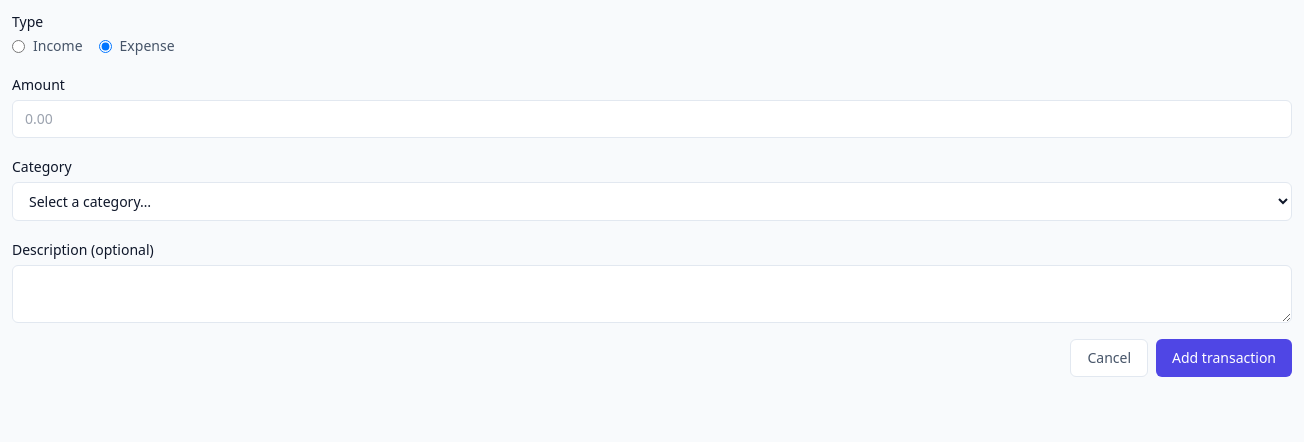
Test: TransactionForm › blocks submit for a non-positive or invalid amount with a field error (Requirement 5.2)
Select "Repairs (Line 14)" in the dropdown labelled "Category" at [652, 202], box [12,182,1292,221]
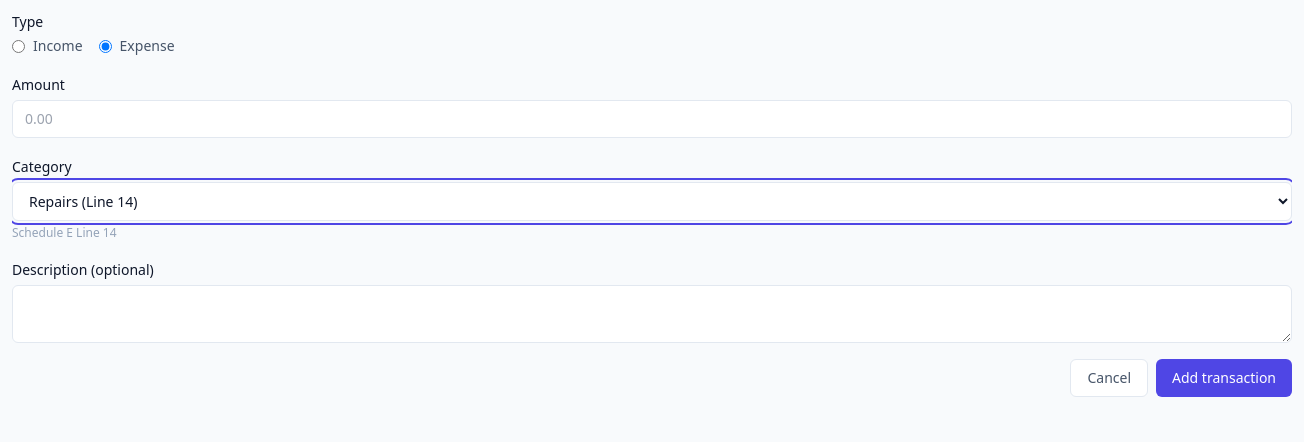
Type "0" into the field labelled "Amount" at [652, 119], box [12,100,1292,138]
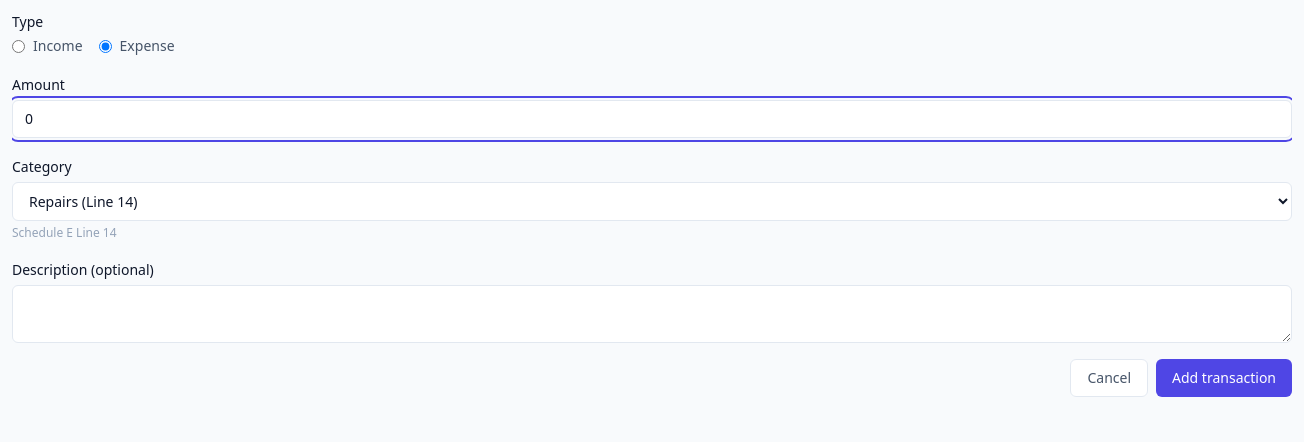
Click the button "Add transaction" at [1224, 378], box [1156,359,1292,397]
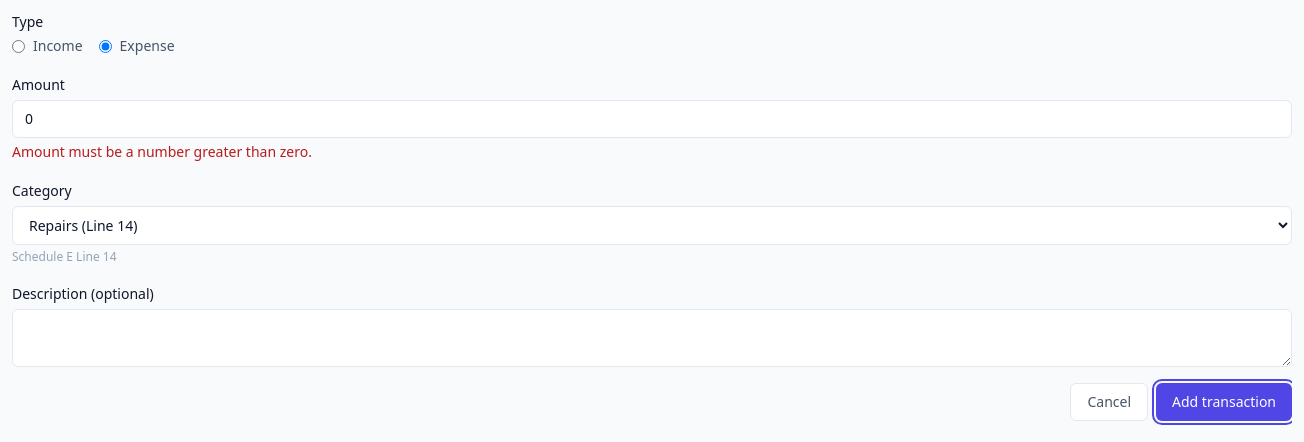
Check: the text "Amount must be a number greater than zero." is shown, box [12,142,312,161]
